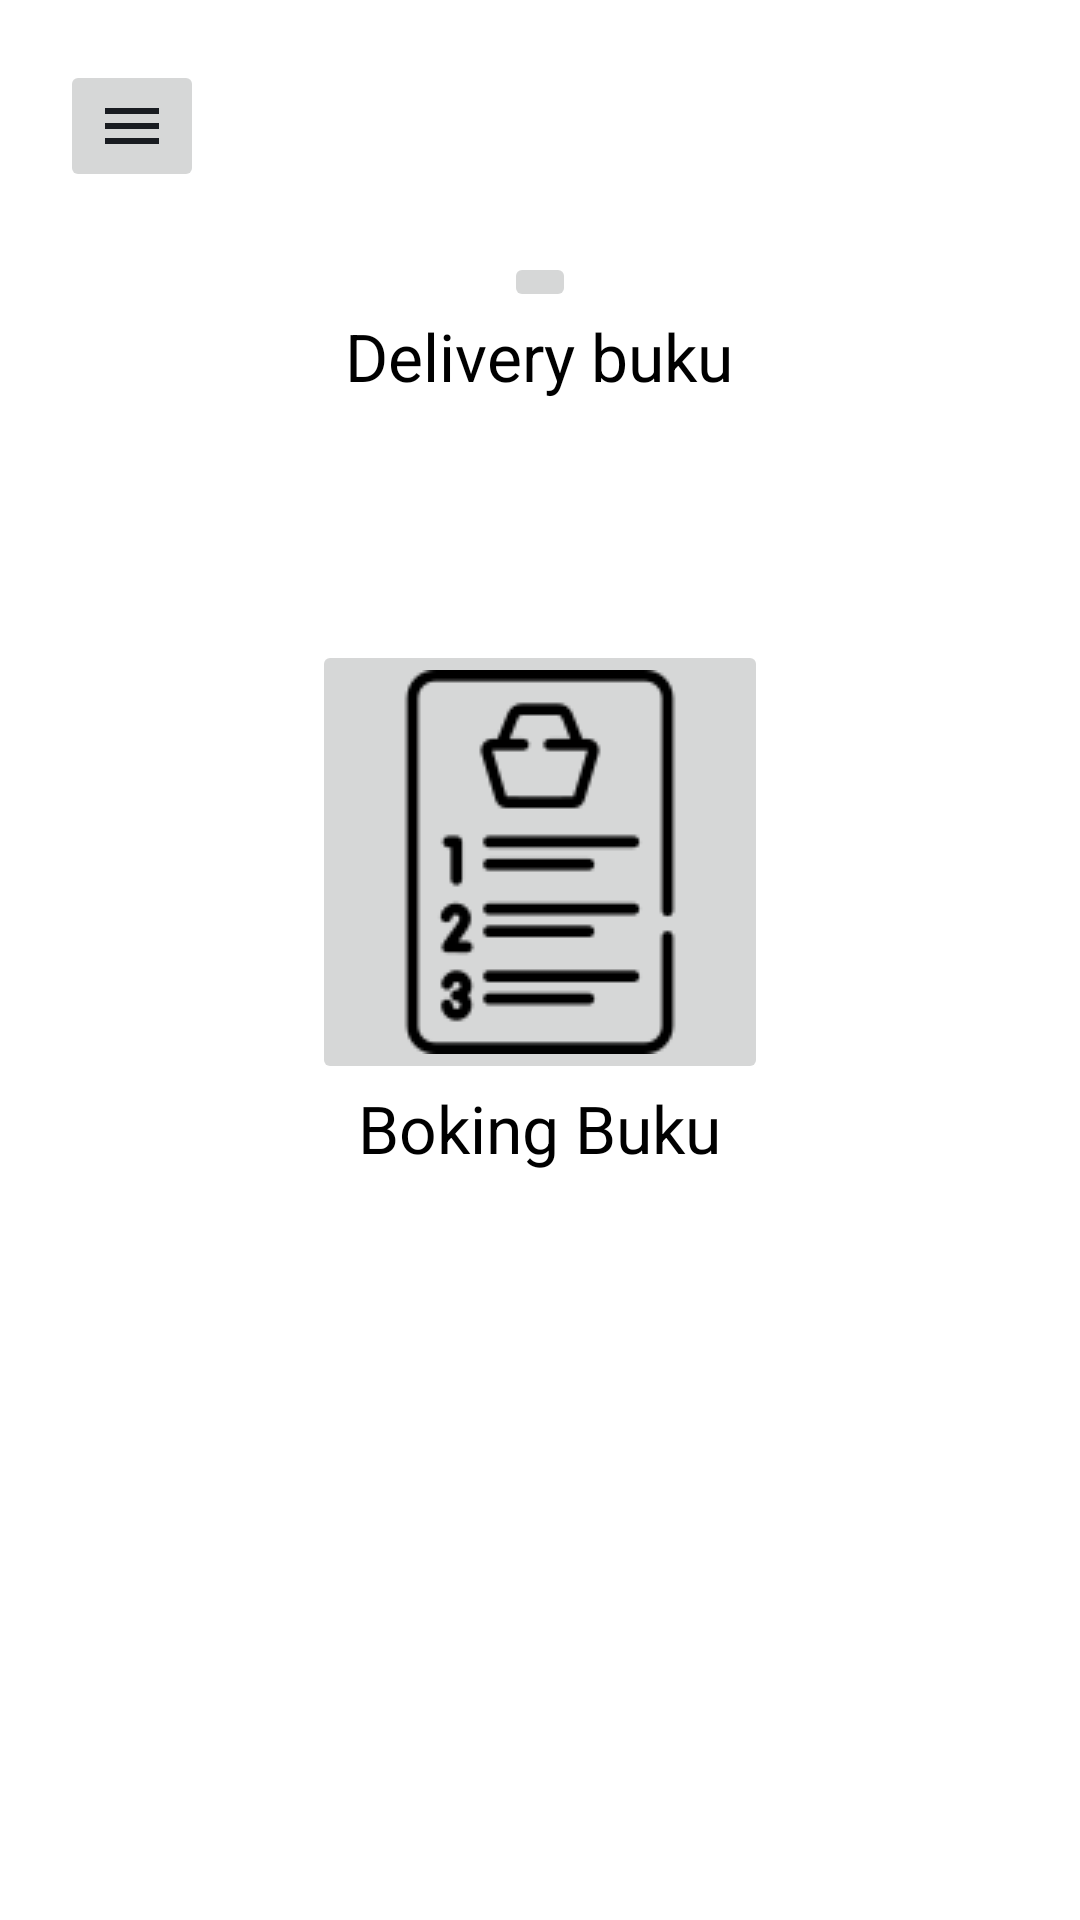

Icon click points for this 1080x1920 phone screenshot, format point (x, y):
menu: point (132, 126)
